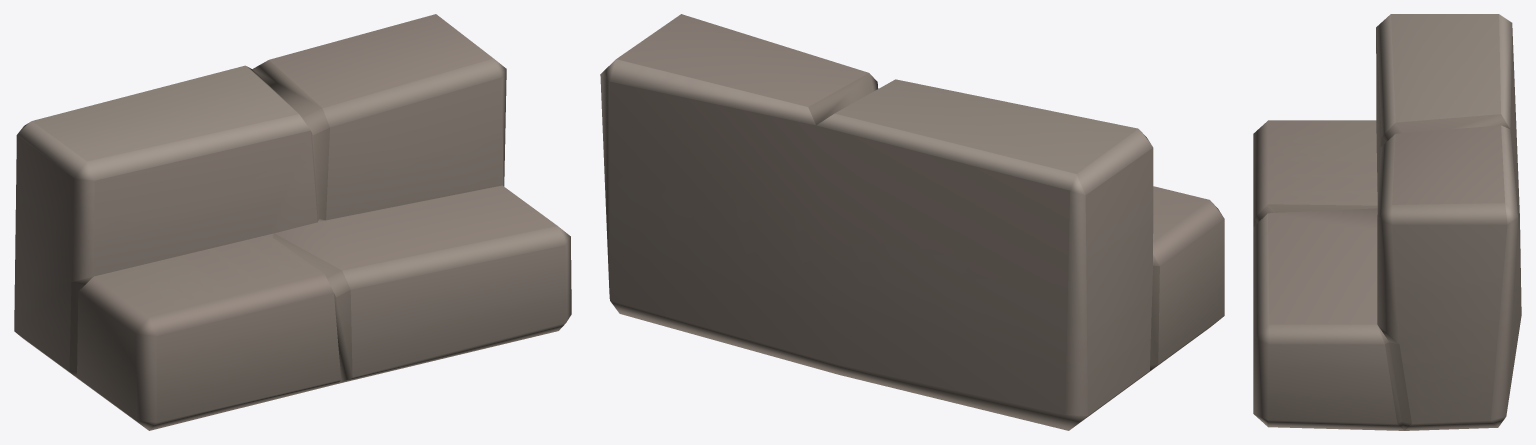
Rendered from elf_stairs_half_1_shade_3.fbx.
3 views of the same model, side by side, from view 1: azimuth 30°, elevation 25°; view 2: azimuth 150°, elevation 25°; view 3: azimuth 270°, elevation 25° (orthographic). The views are drawn at different scales.
Visible parts, largest first — view 1: elf_stairs_half_1_shade_3; view 2: elf_stairs_half_1_shade_3; view 3: elf_stairs_half_1_shade_3.
Boxes of the visible parts, box(x1,y1,x2,y2) form: elf_stairs_half_1_shade_3: box(14, 14, 571, 430); elf_stairs_half_1_shade_3: box(600, 14, 1224, 430); elf_stairs_half_1_shade_3: box(1253, 14, 1521, 430).
Size of the model in its own units: 100 by 50.87 by 54.57.
